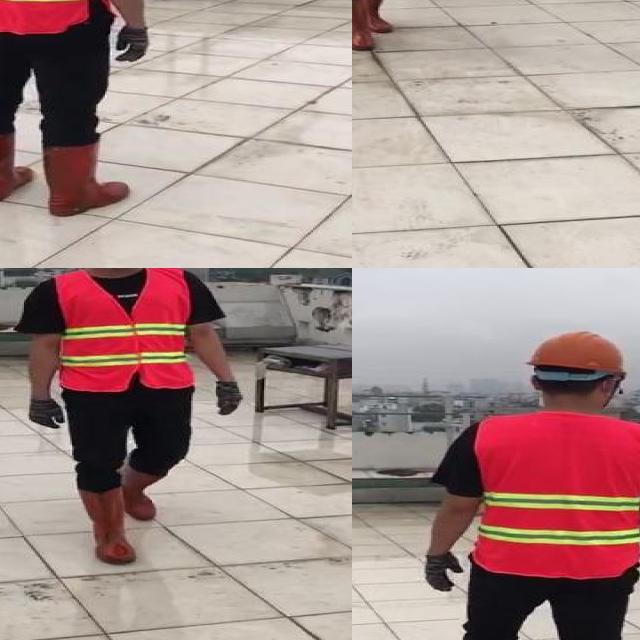boots: (41, 137, 133, 218), (74, 487, 138, 566), (118, 464, 172, 524), (0, 129, 33, 206), (352, 0, 374, 53), (363, 0, 392, 34)
hand_glove: (422, 552, 459, 592), (114, 23, 149, 65), (27, 398, 65, 427), (218, 379, 244, 416)
head_helmet: (526, 328, 624, 380)
person: (406, 332, 640, 640), (11, 268, 248, 572), (0, 0, 160, 223)
vest: (473, 408, 640, 580), (50, 270, 194, 393)
